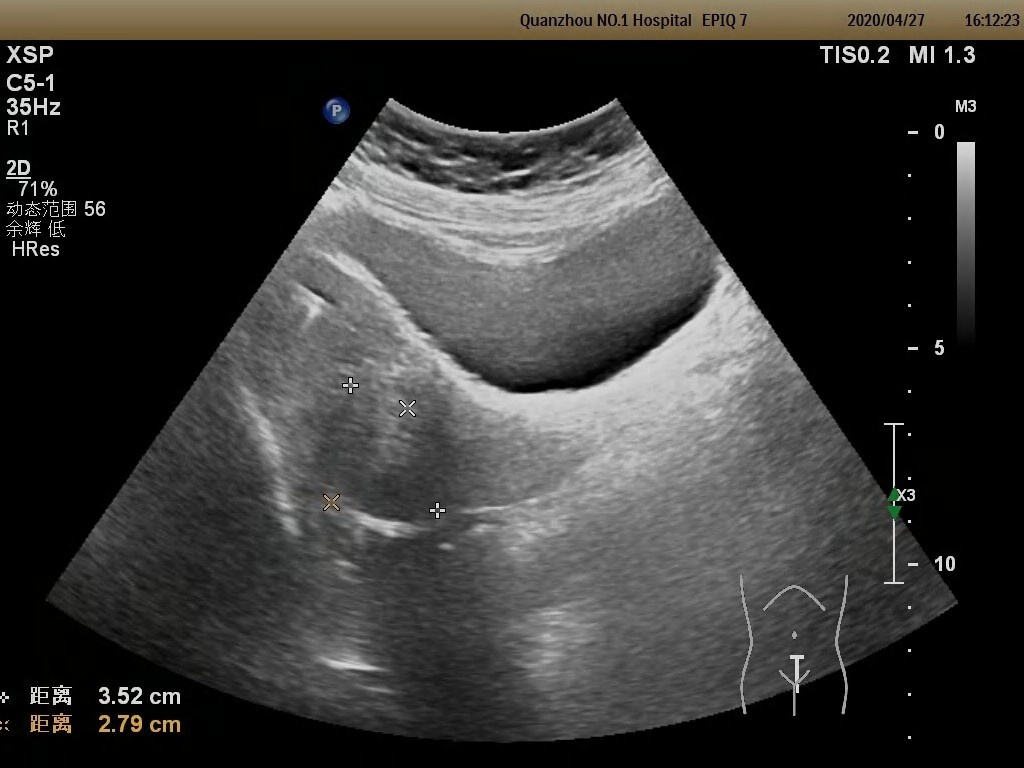肌瘤: (325, 385, 439, 517)
